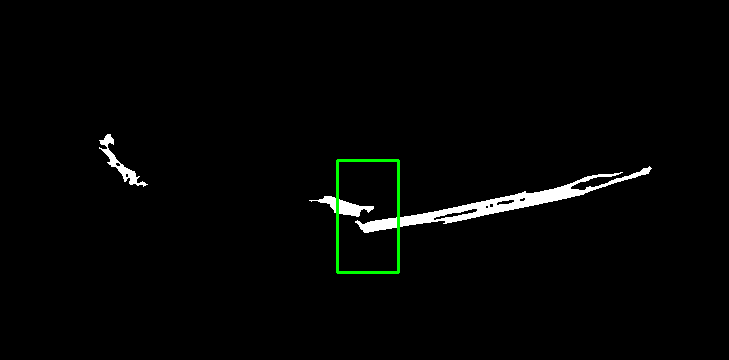fracture: (337, 160, 399, 272)
